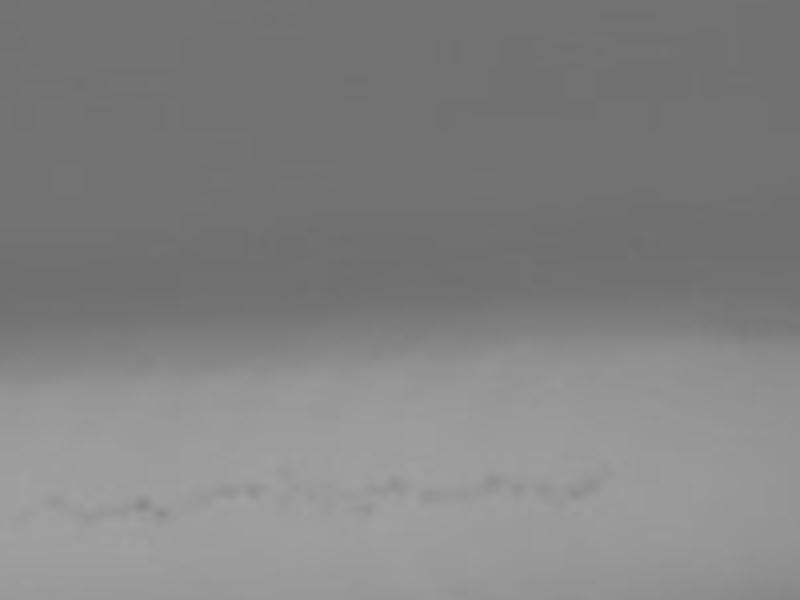defect: (570, 475, 603, 500), (375, 475, 404, 502), (274, 466, 302, 490), (479, 472, 503, 499), (533, 481, 556, 504), (243, 480, 265, 504), (77, 507, 104, 526), (217, 481, 241, 502), (420, 485, 441, 508), (135, 492, 156, 513), (351, 500, 375, 518), (44, 494, 63, 510), (154, 507, 172, 523), (512, 483, 526, 501)
